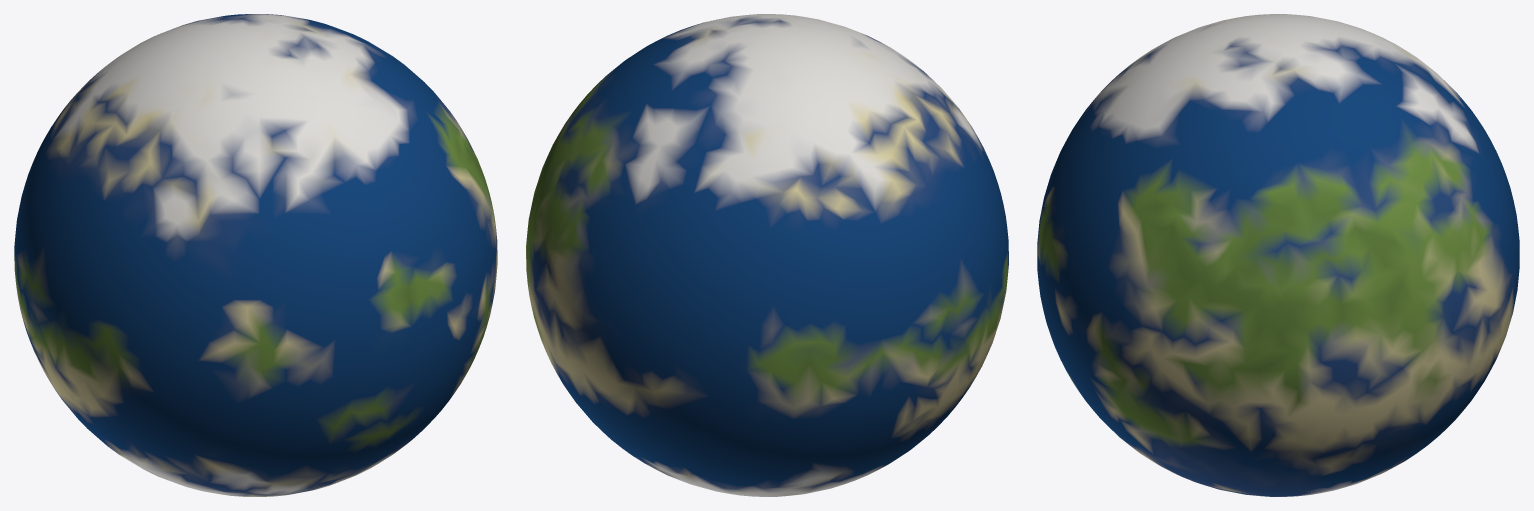
The model's file is planet_earth.fbx.
3 renders of one model, left to right at view 1: azimuth 30°, elevation 25°; view 2: azimuth 150°, elevation 25°; view 3: azimuth 270°, elevation 25°, orthographic.
Parts seen in each view (by area): view 1: planet_earth_like; view 2: planet_earth_like; view 3: planet_earth_like.
Boxes of the visible parts, x1=… form: planet_earth_like: x1=14, y1=14, x2=497, y2=496; planet_earth_like: x1=526, y1=14, x2=1008, y2=496; planet_earth_like: x1=1037, y1=14, x2=1519, y2=496.
Size of the model in its own units: 184 by 184 by 184.
